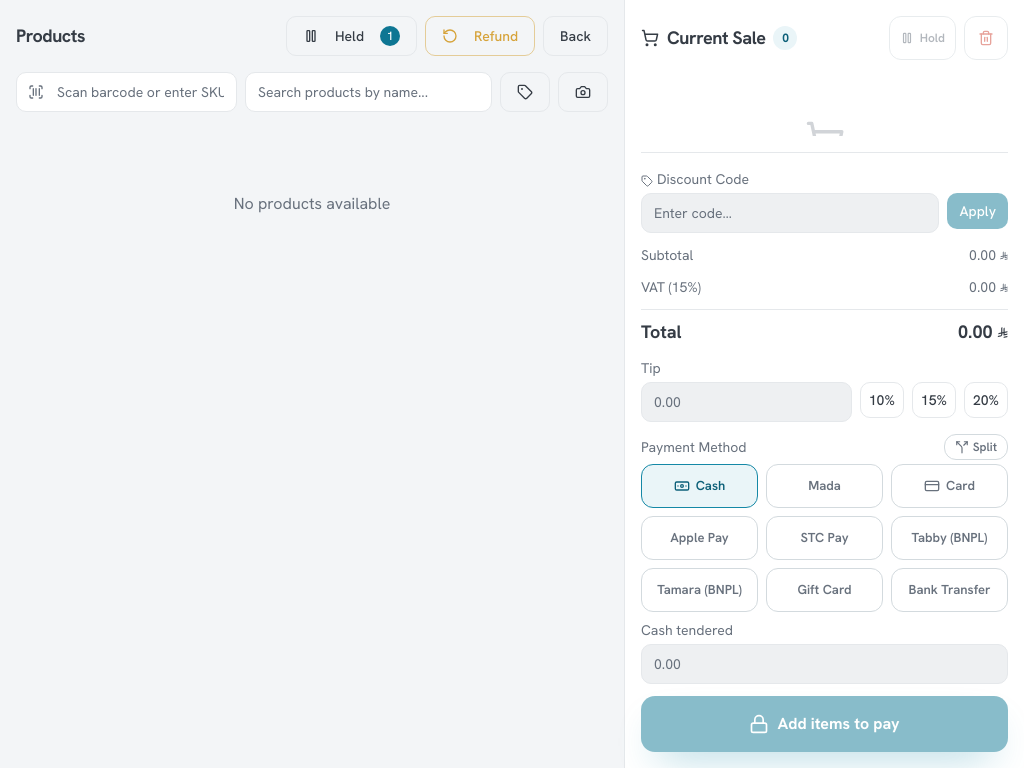
POSTerminal held-tickets modal is an accessible Dialog (ISSUE-226) › opens a labelled role="dialog" listing parked tickets
The width and height of the screenshot is (1024, 768).
Click the button "Held 1": x=352, y=36 left=286, top=16, right=417, bottom=56
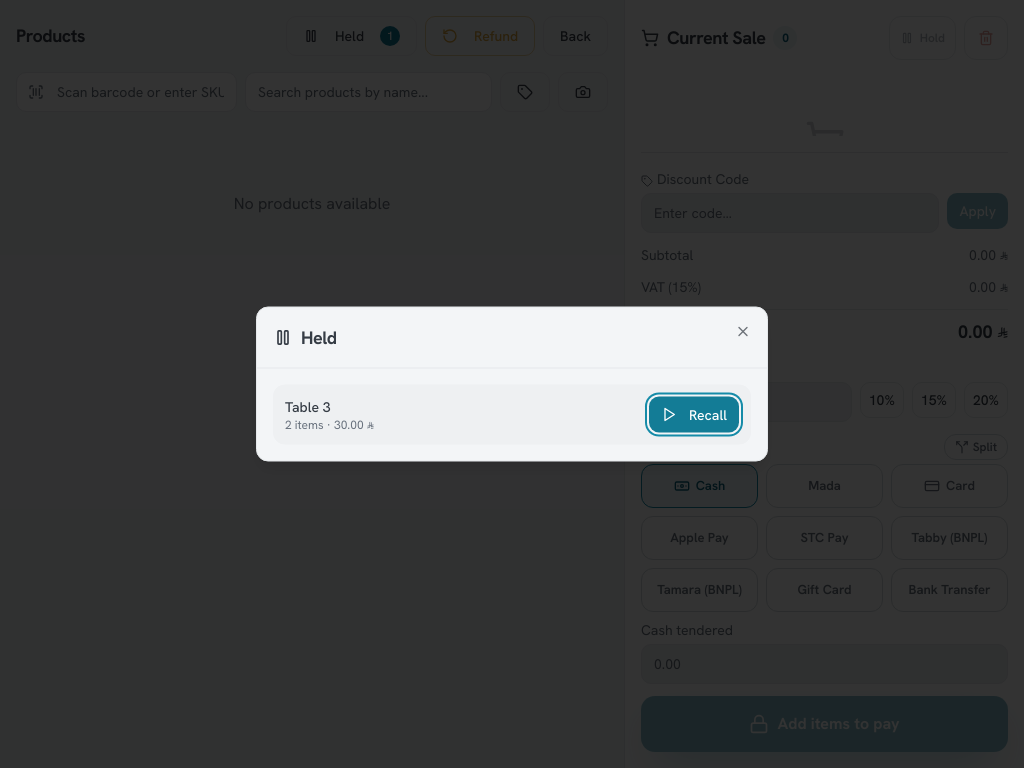
expect the dialog is shown: met, box left=256, top=306, right=768, bottom=462
expect the text "Table 3" is shown: met, box left=285, top=398, right=330, bottom=416
